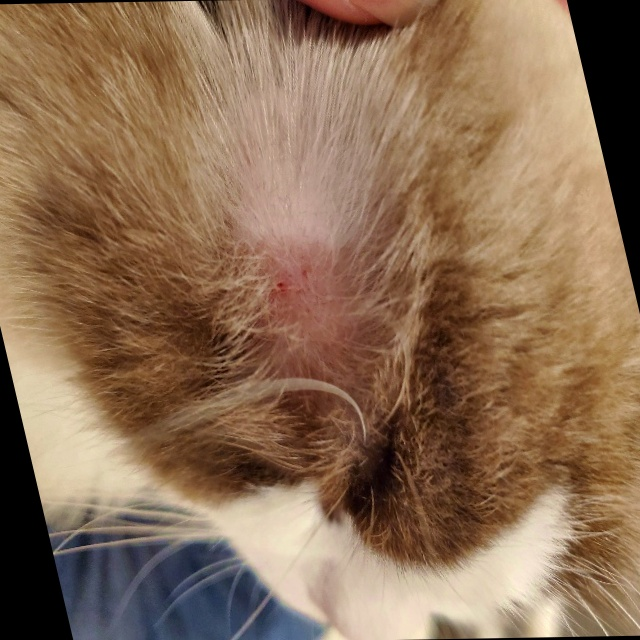ringworm: (243, 240, 407, 354)
